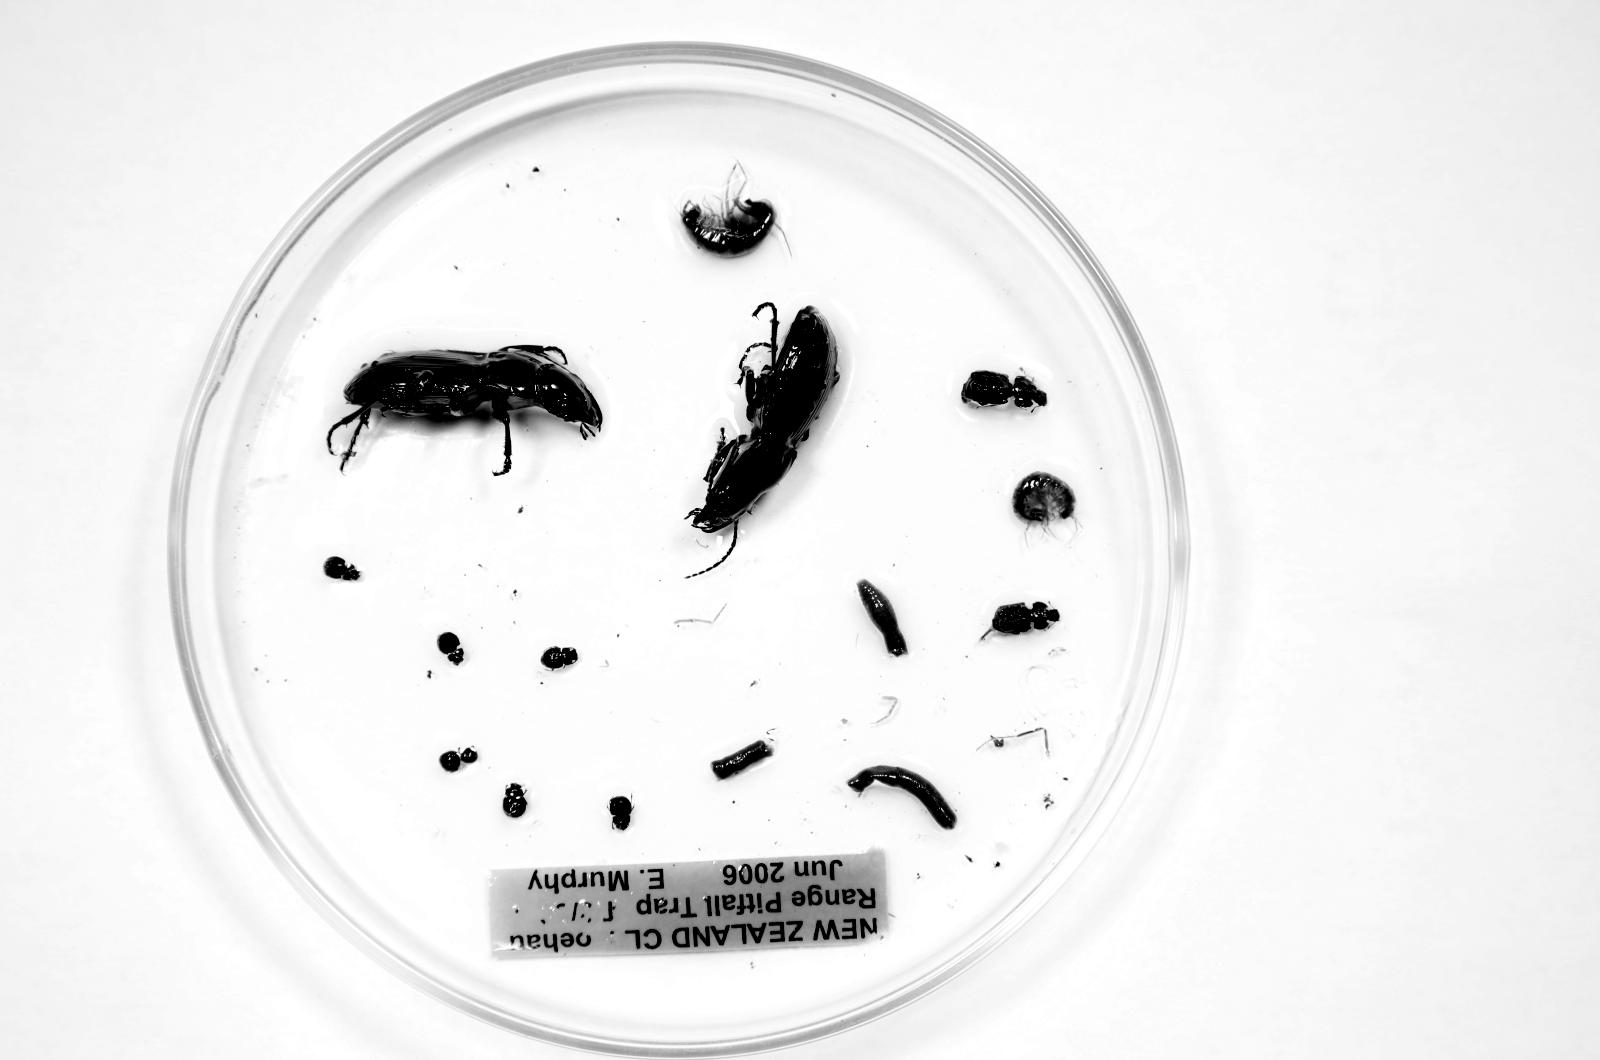amphipoda: (680, 162, 777, 256), (1012, 472, 1076, 532)
annelida: (847, 765, 957, 829)
carabidae: (328, 345, 603, 474), (691, 303, 838, 532)
coleoptera: (961, 370, 1048, 408), (991, 602, 1060, 635), (540, 646, 578, 671), (324, 556, 361, 581), (436, 632, 464, 665), (608, 796, 634, 830), (503, 783, 527, 817)
